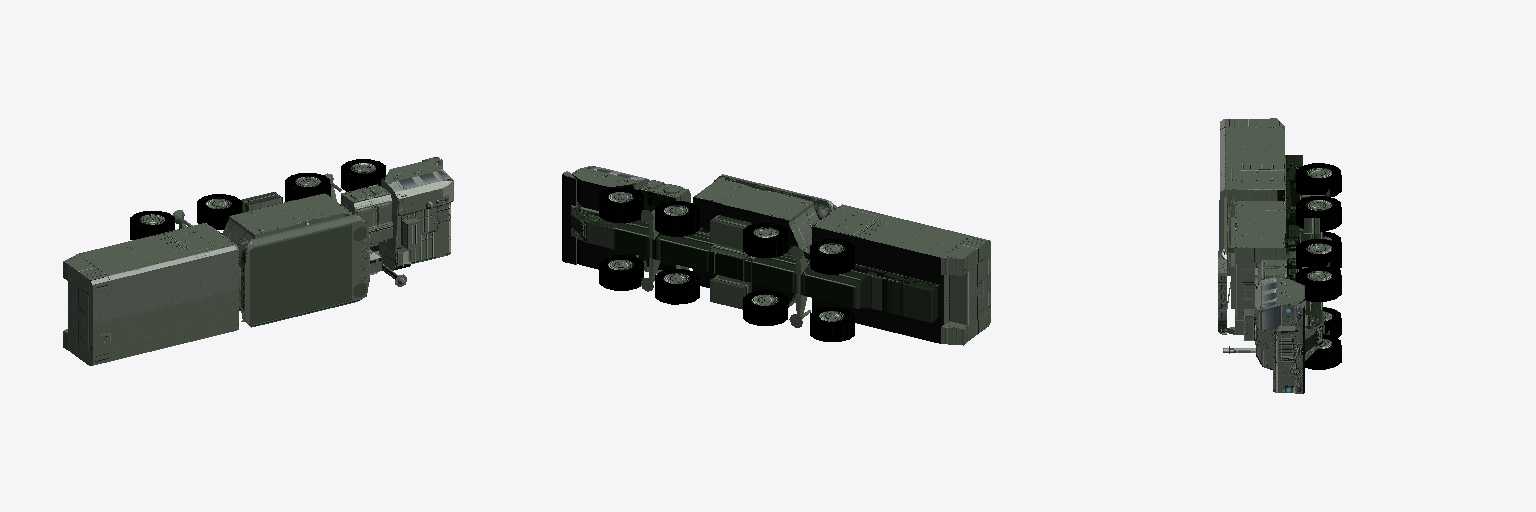
The picture shows the model from 3 angles: view 1: azimuth 30°, elevation 25°; view 2: azimuth 150°, elevation 25°; view 3: azimuth 270°, elevation 25°; orthographic projection.
Visible parts, largest first — view 1: Object__0, Object__85, Object__7, Object__11, Object__13, Object__27, Object__19, Object__29, Object__21, Object__2; view 2: Object__0, Object__17, Object__11, Object__7, Object__29, Object__45, Object__51, Object__21, Object__27, Object__53, Object__43, Object__19 (+6 smaller); view 3: Object__0, Object__11, Object__7, Object__17, Object__29, Object__19, Object__27, Object__85, Object__21, Object__5, Object__43, Object__13.
Part boxes in pixels (left/top/right/bottom): Object__0: left=63, top=223, right=238, bottom=365; Object__85: left=241, top=214, right=369, bottom=327; Object__7: left=379, top=161, right=453, bottom=270; Object__11: left=229, top=193, right=349, bottom=310; Object__13: left=341, top=184, right=392, bottom=274; Object__27: left=197, top=194, right=241, bottom=229; Object__19: left=341, top=159, right=385, bottom=191; Object__29: left=130, top=211, right=174, bottom=239; Object__21: left=285, top=173, right=330, bottom=201; Object__2: left=402, top=217, right=420, bottom=249; Object__0: left=812, top=204, right=990, bottom=345; Object__17: left=571, top=205, right=939, bottom=322; Object__11: left=693, top=179, right=813, bottom=307; Object__7: left=572, top=166, right=649, bottom=269; Object__29: left=810, top=239, right=854, bottom=274; Object__45: left=655, top=269, right=699, bottom=304; Object__51: left=743, top=290, right=787, bottom=325; Object__21: left=655, top=201, right=699, bottom=236; Object__27: left=743, top=223, right=787, bottom=257; Object__53: left=810, top=307, right=854, bottom=341; Object__43: left=599, top=255, right=643, bottom=290; Object__19: left=599, top=187, right=643, bottom=222; Object__0: left=1220, top=118, right=1284, bottom=275; Object__11: left=1231, top=201, right=1285, bottom=334; Object__7: left=1255, top=277, right=1304, bottom=392; Object__17: left=1285, top=155, right=1322, bottom=360; Object__29: left=1296, top=163, right=1341, bottom=196; Object__19: left=1296, top=266, right=1341, bottom=301; Object__27: left=1296, top=196, right=1341, bottom=231; Object__85: left=1218, top=197, right=1227, bottom=334; Object__21: left=1296, top=239, right=1341, bottom=269; Object__5: left=1295, top=301, right=1304, bottom=393; Object__43: left=1305, top=334, right=1341, bottom=369; Object__13: left=1255, top=260, right=1287, bottom=344.
Size of the model in its own units: 1 by 0.214 by 0.2743.
Materials: 1 (1 with a texture image).